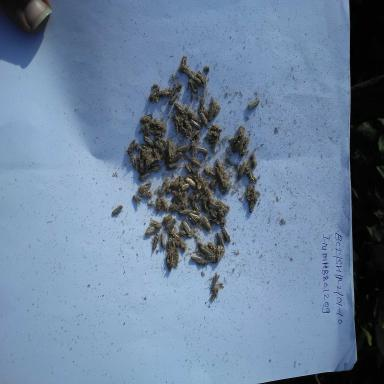pbw: (171, 112, 187, 138), (212, 200, 227, 226), (134, 121, 160, 136), (179, 215, 194, 241), (174, 204, 200, 218), (123, 136, 139, 158), (168, 183, 185, 203), (158, 173, 172, 197), (132, 155, 147, 177), (180, 162, 198, 180), (184, 114, 202, 132), (165, 136, 177, 162), (123, 150, 138, 170), (132, 143, 152, 158), (214, 166, 226, 191), (200, 214, 214, 235), (108, 203, 126, 219), (165, 157, 183, 173), (145, 116, 165, 130), (199, 166, 219, 180), (200, 187, 211, 212), (137, 179, 153, 196), (186, 154, 203, 170), (166, 199, 184, 214), (248, 184, 257, 214), (158, 191, 170, 213), (172, 100, 188, 116), (221, 223, 232, 246), (174, 142, 192, 156), (201, 182, 214, 201), (190, 144, 212, 155), (215, 199, 231, 214), (246, 96, 262, 111), (147, 86, 162, 102), (189, 253, 209, 265), (236, 159, 248, 179), (207, 175, 221, 192), (184, 174, 197, 192), (209, 286, 222, 304), (154, 190, 164, 213), (155, 133, 169, 149), (203, 242, 217, 258), (158, 84, 174, 98), (243, 181, 253, 203), (239, 136, 250, 156), (215, 230, 226, 250), (198, 110, 210, 128), (146, 124, 164, 136), (167, 90, 179, 108), (177, 233, 187, 254), (151, 231, 160, 254), (178, 54, 188, 74), (202, 104, 212, 124), (169, 245, 177, 270), (189, 137, 199, 157), (236, 133, 245, 155), (214, 240, 223, 262), (151, 148, 162, 166), (144, 224, 158, 238), (152, 138, 166, 152), (183, 65, 196, 80), (130, 192, 142, 208), (138, 112, 154, 124), (194, 172, 204, 191), (188, 76, 198, 95), (164, 256, 174, 275), (207, 123, 224, 134), (238, 125, 246, 148), (206, 198, 220, 211), (164, 216, 177, 230), (187, 110, 200, 124), (162, 211, 175, 225), (187, 212, 201, 225), (192, 75, 206, 88), (206, 130, 221, 142), (143, 162, 161, 172), (246, 170, 258, 185), (136, 192, 154, 202), (243, 158, 254, 174), (207, 205, 218, 221), (168, 228, 182, 240), (210, 282, 224, 294), (219, 244, 227, 264), (170, 151, 183, 163), (137, 170, 150, 182), (149, 218, 162, 230), (189, 129, 200, 143), (211, 272, 221, 287), (250, 150, 258, 168), (215, 157, 224, 173), (143, 134, 154, 147), (207, 136, 222, 145), (159, 230, 166, 249), (198, 96, 204, 116), (181, 181, 191, 192)
